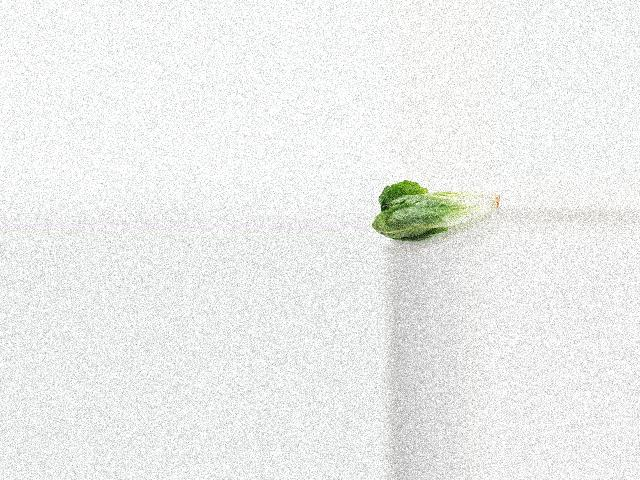lettuce: (371, 178, 506, 244)
